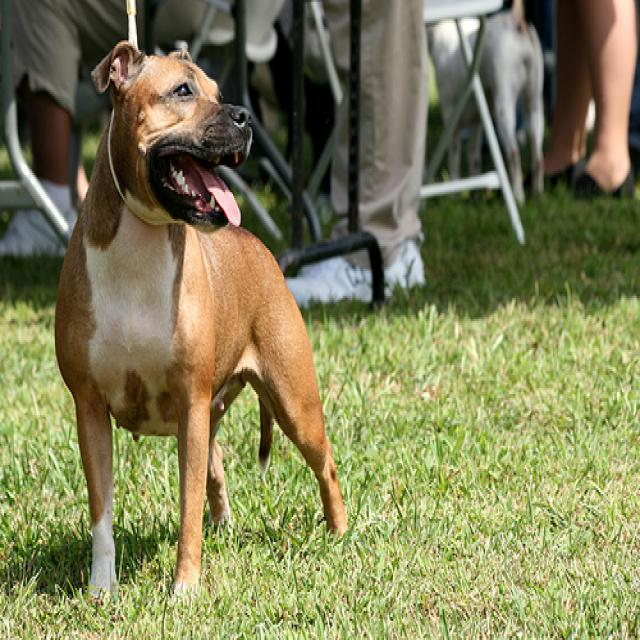dog-staffordshire_bull_terrier: (49, 25, 349, 594)
